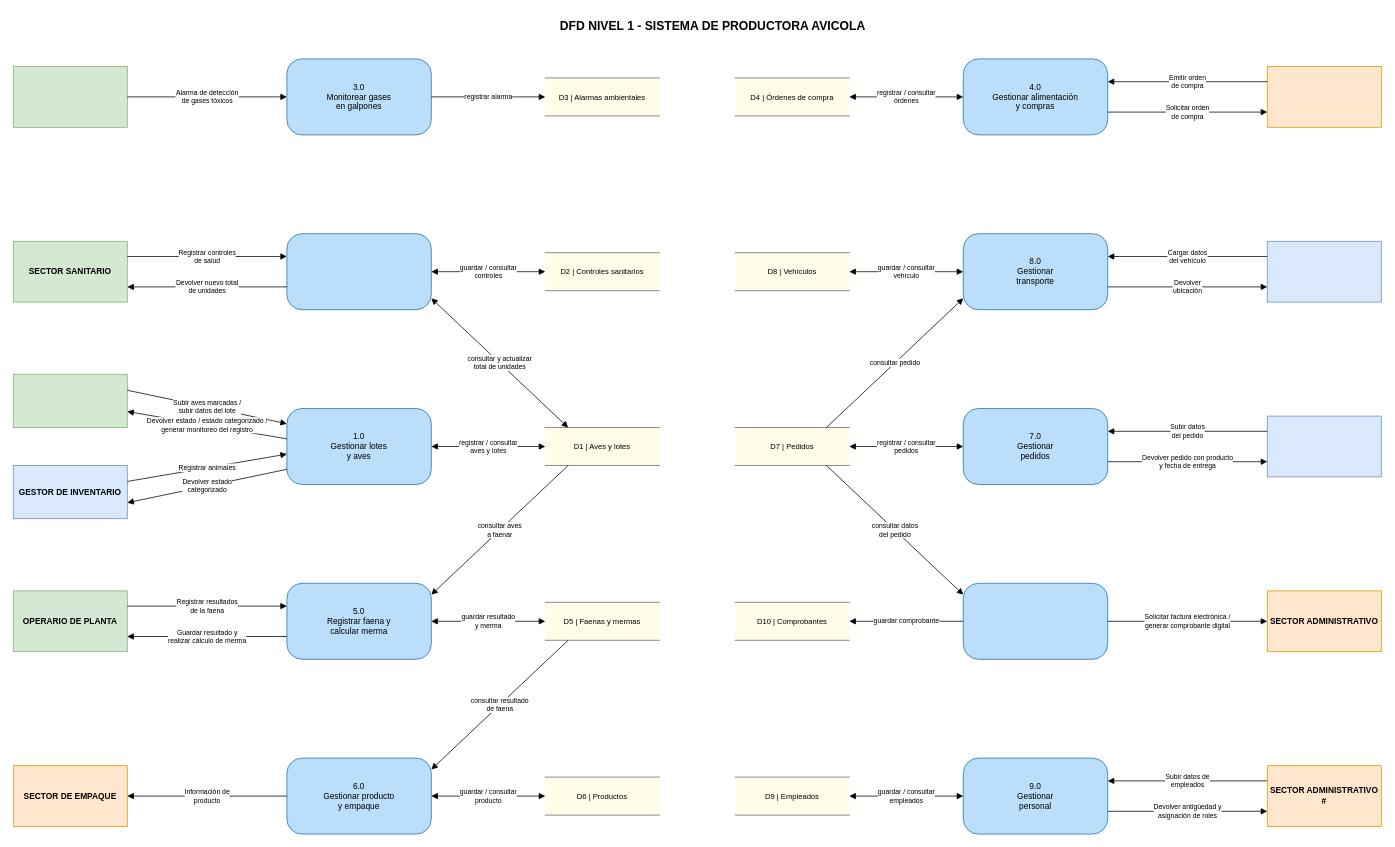
Image size: 1395x847. Some labels were removed from this diagram. Here are the shapes that lost their labels. From the top down, the centre of each, then its label:
At point 70,96: "GALPONES".
At point 1324,96: "SECTOR ALIMENTICIO".
At point 358,271: "2.0 Gestionar sanidad".
At point 1324,271: "FRIGORIFICO".
At point 70,401: "SECTOR DE CRIANZA".
At point 1324,446: "SECTOR LOGISTICA".
At point 1035,621: "10.0 Facturación electrónica".
